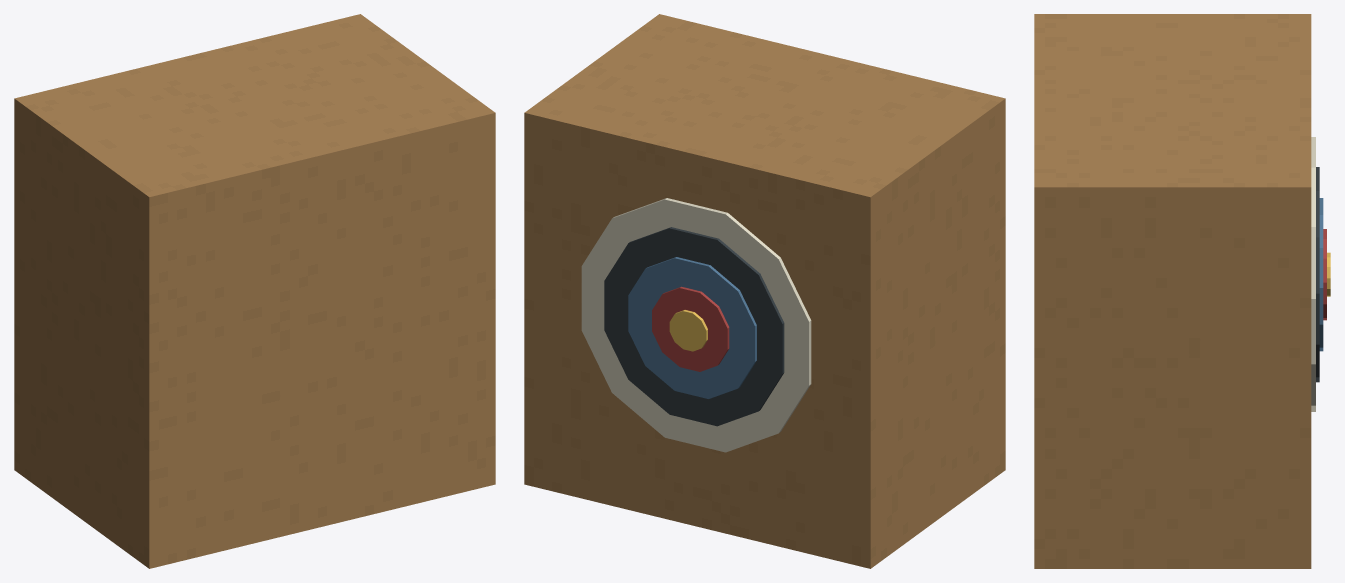
The model's file is f_archery_target_box.glb.
3 views of the same model, side by side, from view 1: azimuth 30°, elevation 25°; view 2: azimuth 150°, elevation 25°; view 3: azimuth 270°, elevation 25° (orthographic). The views are drawn at different scales.
Visible parts, largest first — view 1: block_target-block; view 2: block_target-block, block_scoring-ring-0, block_scoring-ring-1, block_scoring-ring-2, block_scoring-ring-3, block_scoring-ring-4; view 3: block_target-block, block_scoring-ring-0, block_scoring-ring-1, block_scoring-ring-2.
Boxes of the visible parts, x1,y1,x2,y2 form: block_target-block: [14, 14, 495, 568]; block_target-block: [524, 14, 1005, 568]; block_scoring-ring-0: [581, 198, 811, 452]; block_scoring-ring-1: [604, 227, 784, 426]; block_scoring-ring-2: [628, 257, 756, 398]; block_scoring-ring-3: [652, 286, 729, 371]; block_scoring-ring-4: [669, 310, 707, 351]; block_target-block: [1034, 14, 1311, 568]; block_scoring-ring-0: [1311, 137, 1315, 411]; block_scoring-ring-1: [1316, 167, 1319, 382]; block_scoring-ring-2: [1319, 198, 1323, 351].
Bounding box in the file's own units: 0.77 × 0.79 × 0.5565.
Materials: 1 (1 with a texture image).
